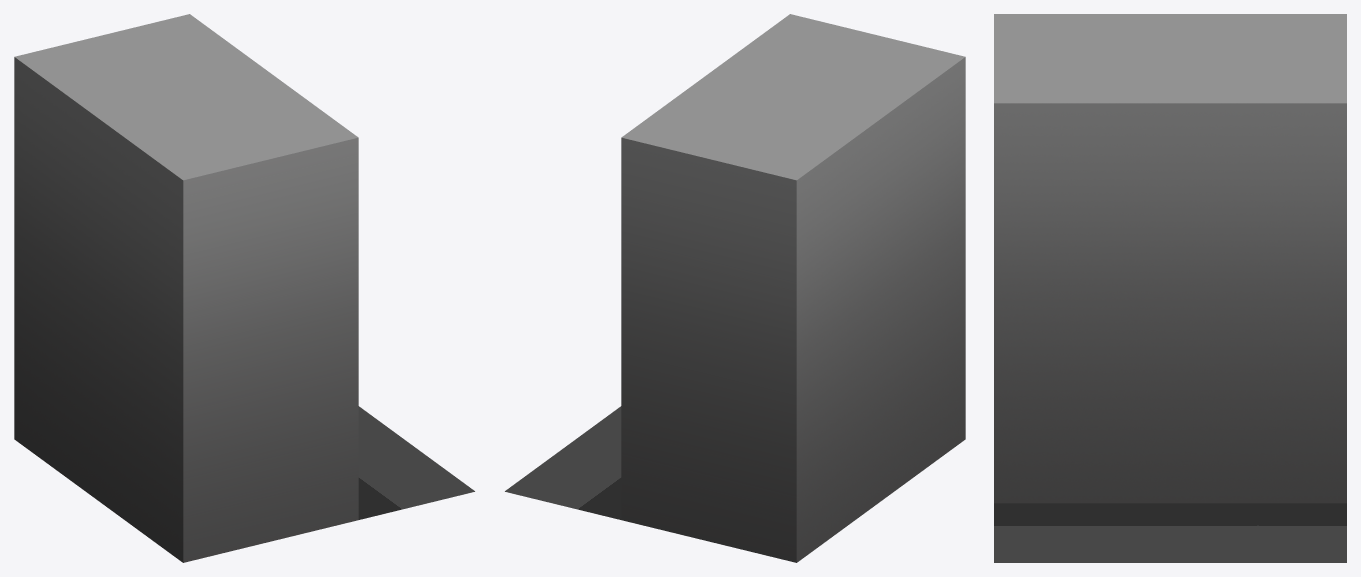
The model's file is SM_MuurBuiten.fbx.
3 views of the same model, side by side, from view 1: azimuth 30°, elevation 25°; view 2: azimuth 150°, elevation 25°; view 3: azimuth 270°, elevation 25° (orthographic). The views are drawn at different scales.
Visible parts, largest first — view 1: SM_muurBuiten; view 2: SM_muurBuiten; view 3: SM_muurBuiten.
Boxes of the visible parts, x1=… form: SM_muurBuiten: x1=14, y1=14, x2=474, y2=562; SM_muurBuiten: x1=505, y1=14, x2=965, y2=562; SM_muurBuiten: x1=994, y1=14, x2=1346, y2=562.
Bounding box in the file's own units: 200 × 250 × 200.
